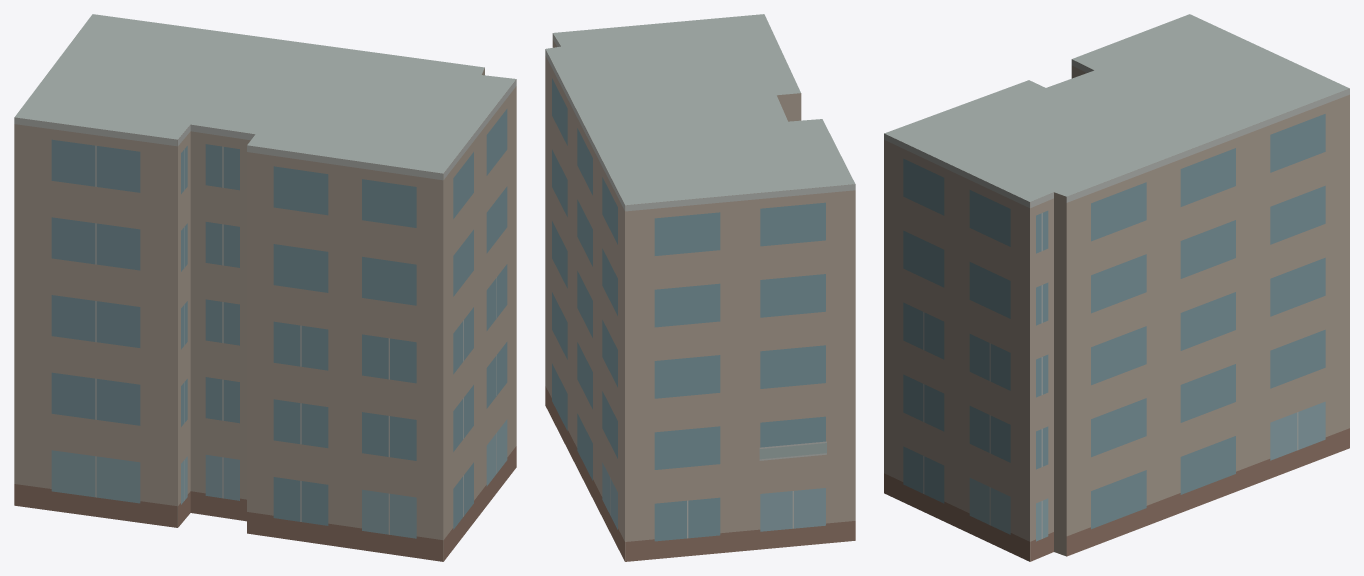
Rendered from survey-upis-32638743.glb.
The picture shows the model from 3 angles, left to right: view 1: azimuth 30°, elevation 25°; view 2: azimuth 150°, elevation 25°; view 3: azimuth 270°, elevation 25°; orthographic projection. The views are drawn at different scales.
Parts seen in each view (by area): view 1: survey-upis-32638743.tmp; view 2: survey-upis-32638743.tmp; view 3: survey-upis-32638743.tmp.
Boxes of the visible parts, x1,y1,x2,y2 form: survey-upis-32638743.tmp: [14, 14, 516, 561]; survey-upis-32638743.tmp: [545, 14, 855, 561]; survey-upis-32638743.tmp: [884, 14, 1349, 561].
Bounding box in the file's own units: 15.82 × 14.1 × 16.55.
